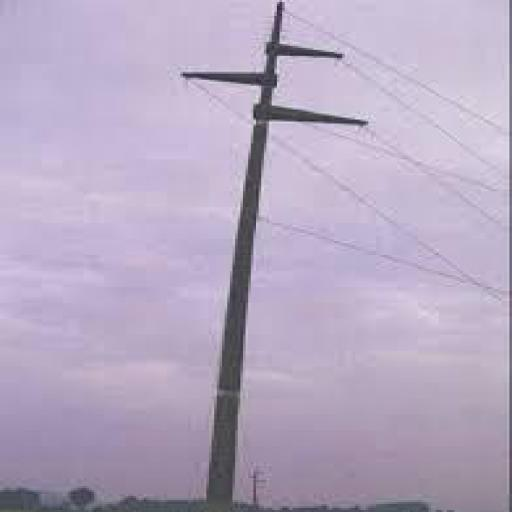mono_10: (172, 2, 371, 506), (248, 464, 267, 506)
